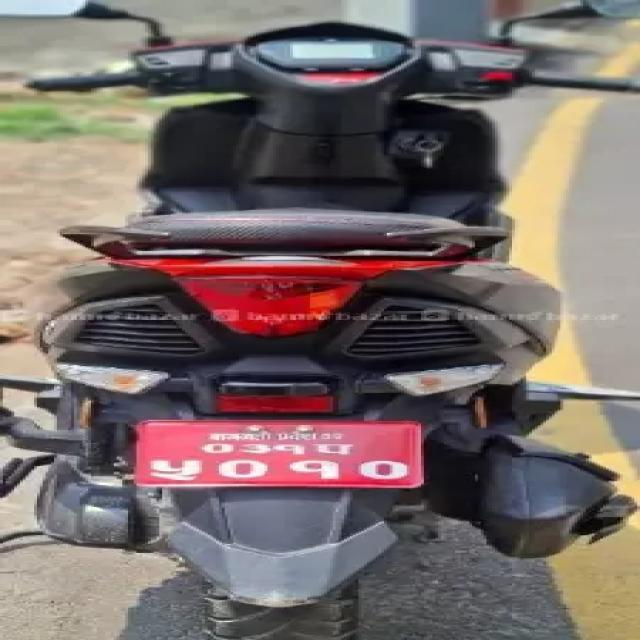License-plate: (138, 417, 435, 486)
